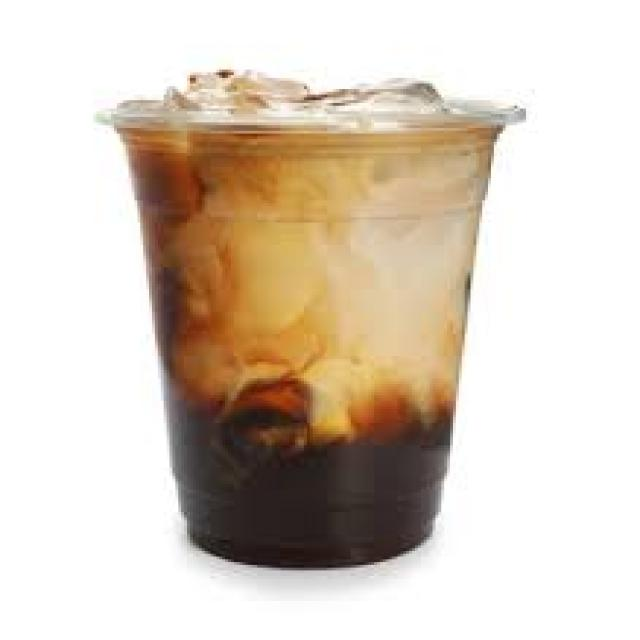bottle: (104, 73, 525, 566)
